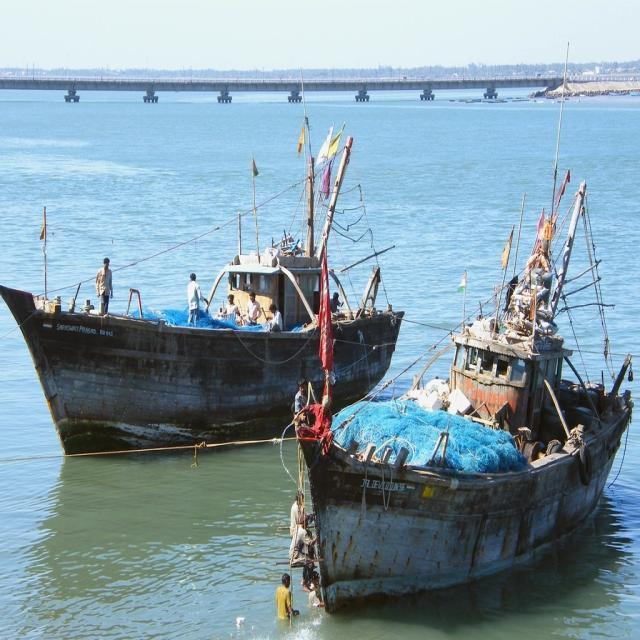boat: (290, 174, 640, 613), (0, 236, 412, 446)
